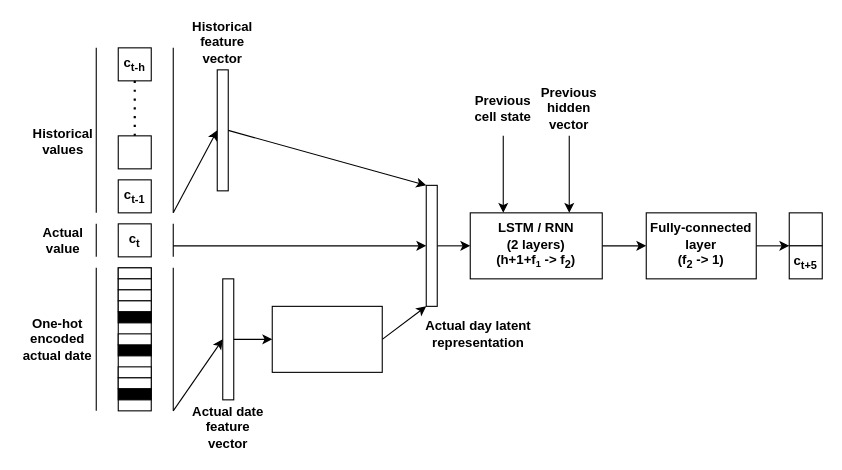
This 842x470 diagram has some shape labels left out. Here are the shapes that lost their labels. From the top down, the centre of each, then its label:
At point (134, 152): "c t-2".
At point (805, 229): "c t+1".
At point (326, 338): "Fully-connected layer (22 -> f 1 )".
